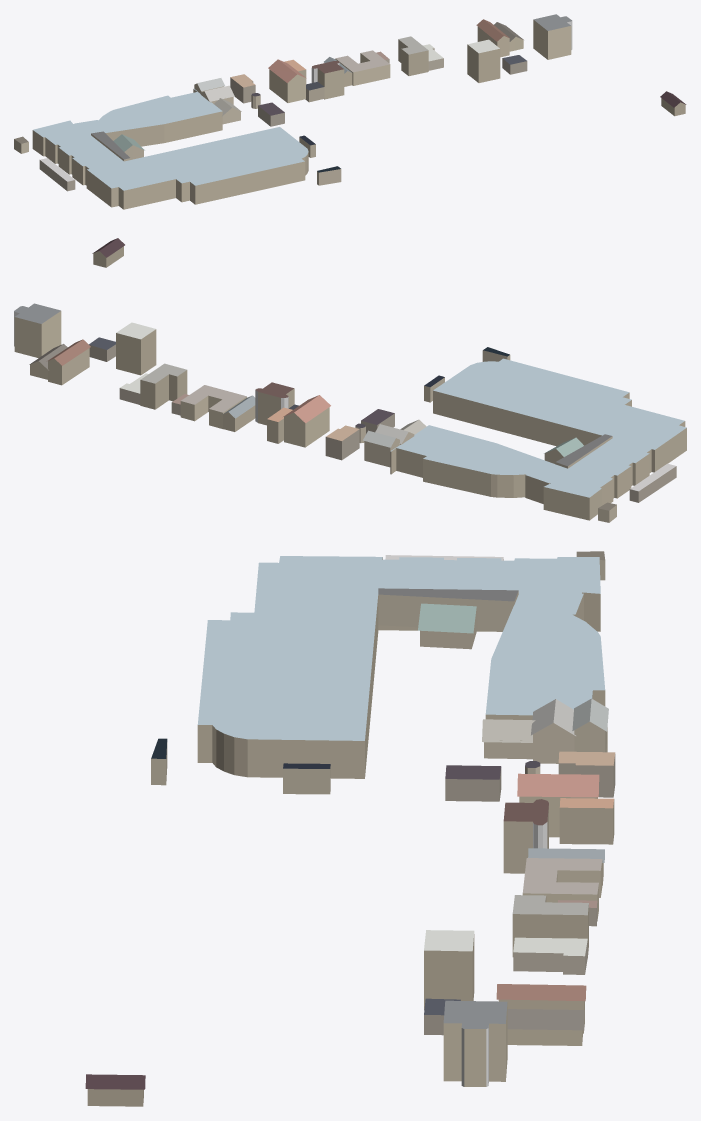
3 views of the same model, one above another, from view 1: azimuth 30°, elevation 25°; view 2: azimuth 150°, elevation 25°; view 3: azimuth 270°, elevation 25° (orthographic). The views are drawn at different scales.
Visible parts, largest first — view 1: tuile; view 2: tuile; view 3: tuile.
Part boxes in pixels (x1,y1,x2,y2): tuile: (14,14,686,209); tuile: (14,238,686,522); tuile: (85,551,615,1106).
Bounding box in the file's own units: 224 × 12.08 × 94.36.
